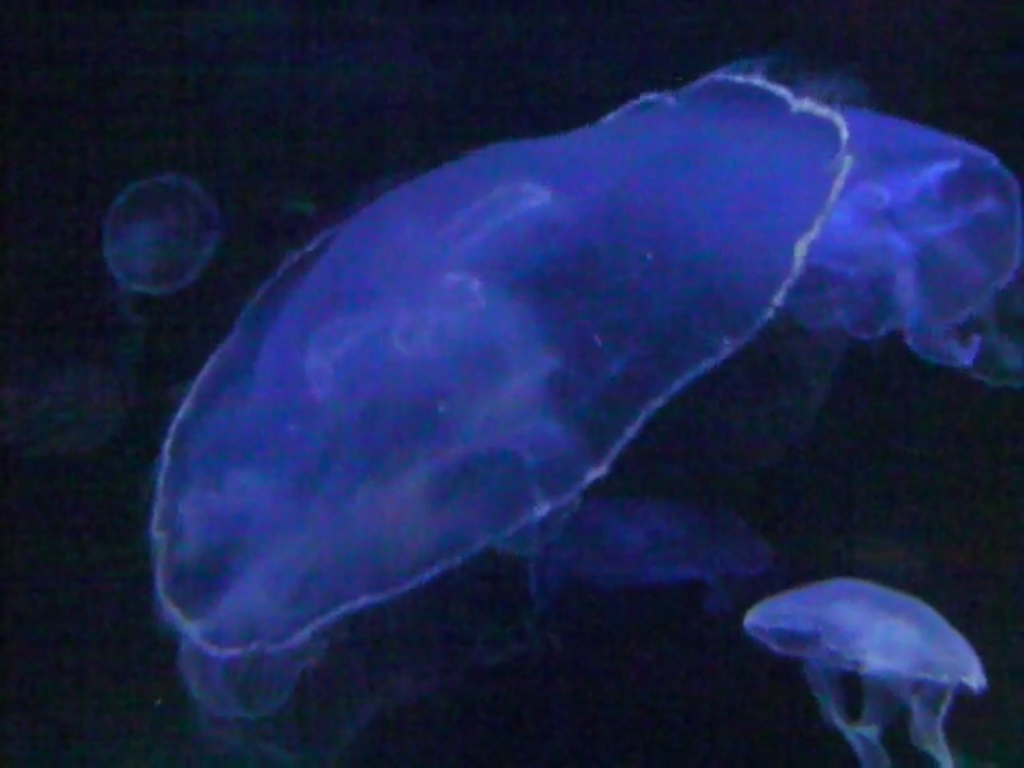Jellyfish: (147, 54, 1022, 766), (740, 572, 990, 766), (92, 163, 222, 300)
